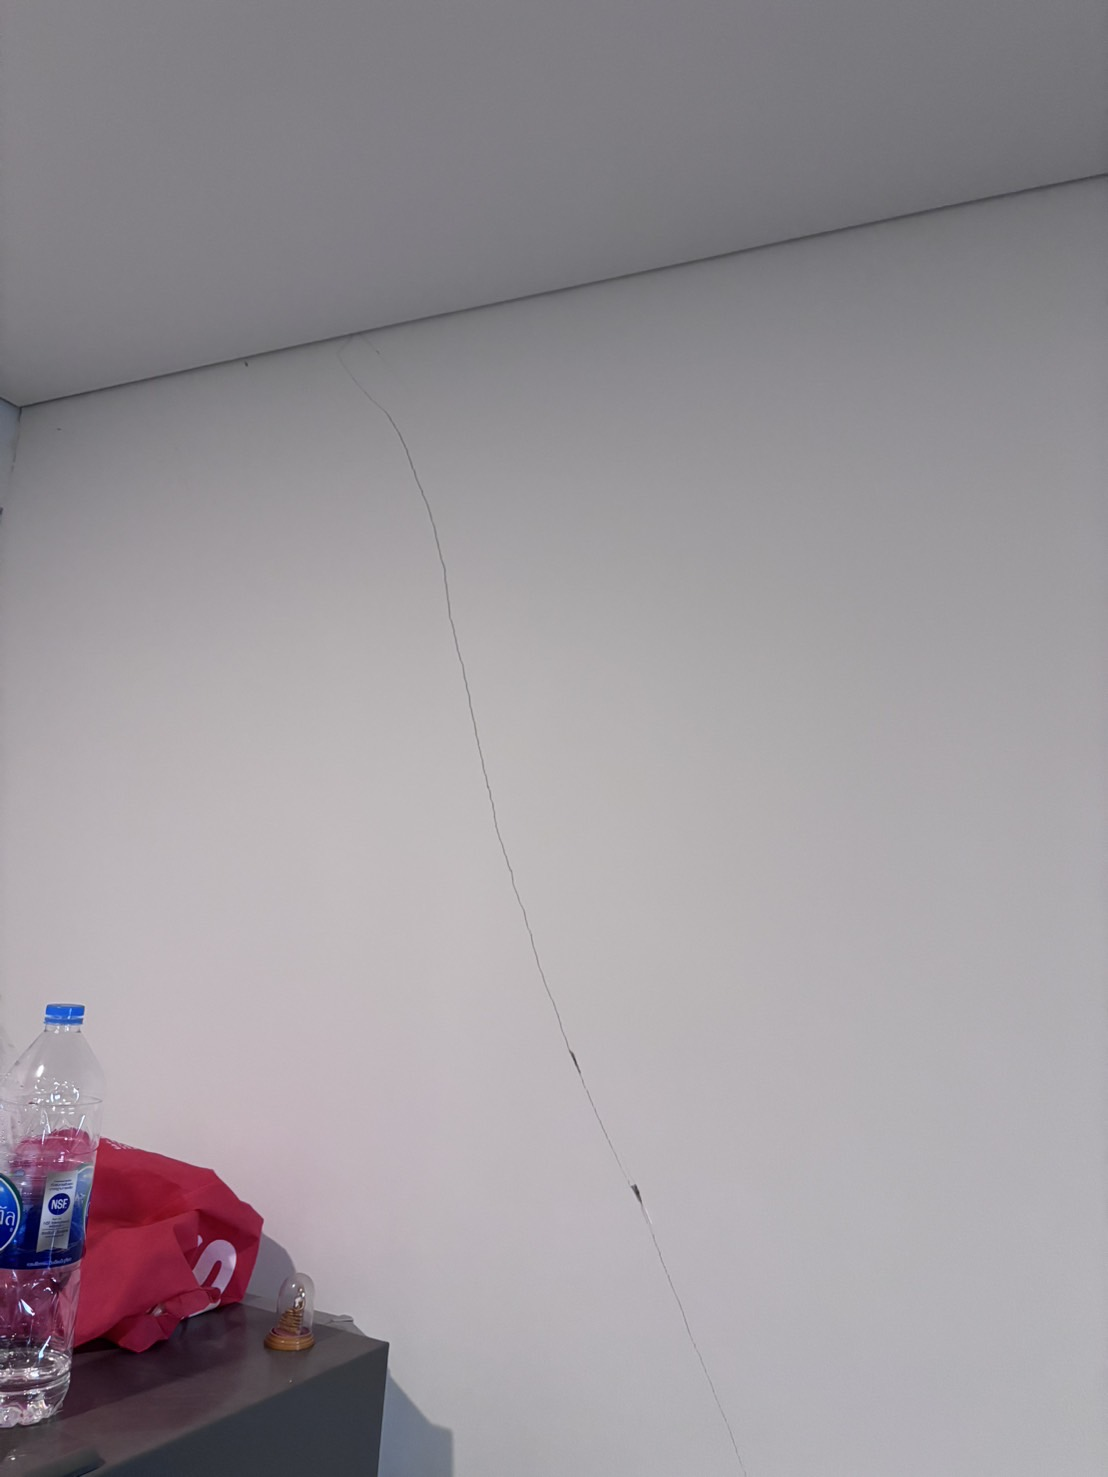Low: (324, 335, 828, 1477)
